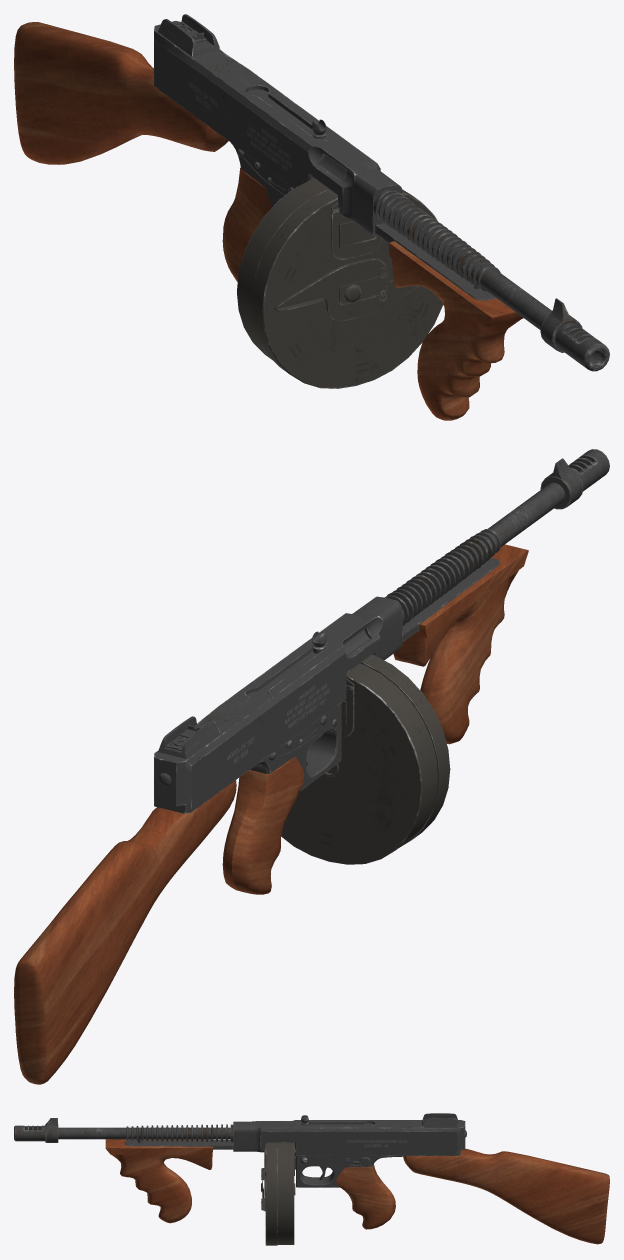
Rendered from machine-gun.glb.
3 views of the same model, one above another, from view 1: azimuth 30°, elevation 25°; view 2: azimuth 150°, elevation 25°; view 3: azimuth 270°, elevation 25° (orthographic). The views are drawn at different scales.
Parts seen in each view (by area): view 1: Обойма, Основа.001, Приклад, Передняя рукаятка, Ствол, Основа, Передняя рукаятка.001, Детали; view 2: Приклад, Основа.001, Обойма, Передняя рукаятка, Ствол, Основа, Передняя рукаятка.001; view 3: Приклад, Основа.001, Передняя рукаятка, Ствол, Обойма, Основа, Передняя рукаятка.001.
Boxes of the visible parts, x1,y1,x2,y2 form: Обойма: [237, 178, 443, 388]; Основа.001: [154, 14, 402, 236]; Приклад: [14, 22, 228, 164]; Передняя рукаятка: [388, 241, 523, 420]; Ствол: [373, 189, 609, 371]; Основа: [222, 168, 271, 281]; Передняя рукаятка.001: [375, 223, 495, 300]; Детали: [237, 148, 293, 198]; Приклад: [14, 780, 236, 1084]; Основа.001: [154, 596, 402, 813]; Обойма: [281, 654, 450, 864]; Передняя рукаятка: [393, 544, 528, 744]; Ствол: [384, 449, 609, 625]; Основа: [222, 756, 304, 894]; Передняя рукаятка.001: [402, 557, 500, 641]; Приклад: [403, 1148, 609, 1244]; Основа.001: [233, 1113, 465, 1187]; Передняя рукаятка: [105, 1139, 213, 1223]; Ствол: [14, 1118, 233, 1142]; Обойма: [261, 1142, 295, 1245]; Основа: [336, 1164, 395, 1229]; Передняя рукаятка.001: [124, 1139, 233, 1149].
Size of the model in its own units: 0.099 by 0.1231 by 0.5217.
4 materials, 4 textured.
